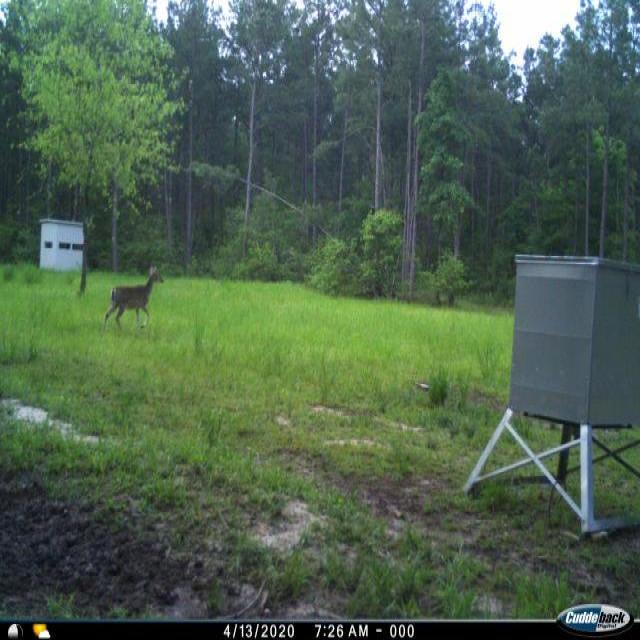deer: (104, 262, 170, 333)
